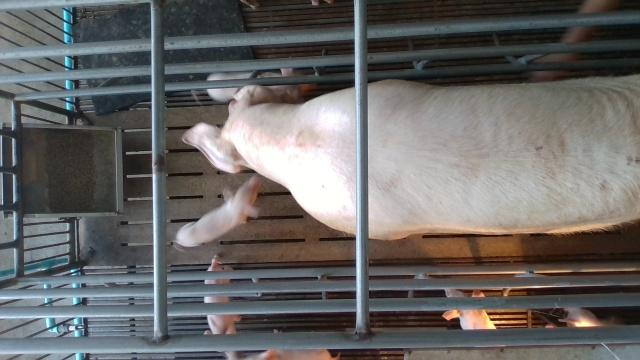piglet: (172, 175, 261, 247), (204, 255, 243, 360), (442, 289, 496, 330)
sow-stand: (181, 71, 640, 241)
